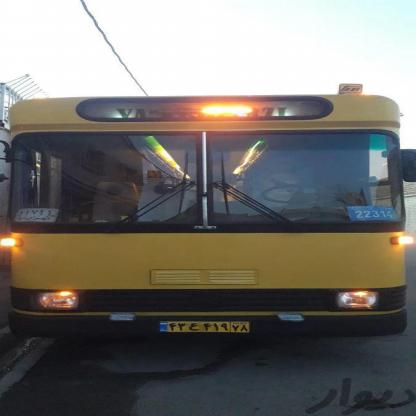Bus: (0, 86, 416, 344)
